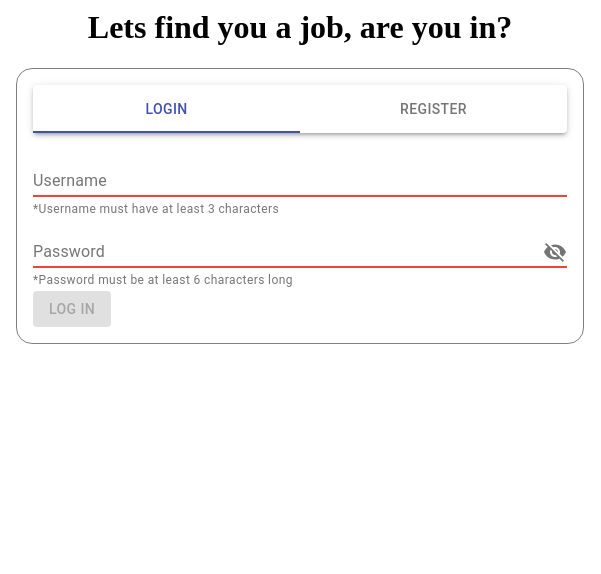
Scenario: tests for landing page › should display RegisterForm if REGISTER tab is selected
Step 1. Click the tab "Register" → {"x": 434, "y": 109}, box [300,85,567,133]
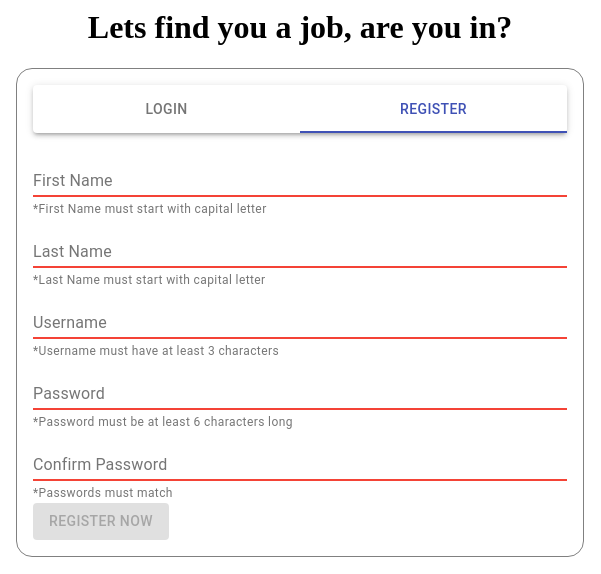
Expected: the text "Register NOW" is shown, [49,509,153,534]
